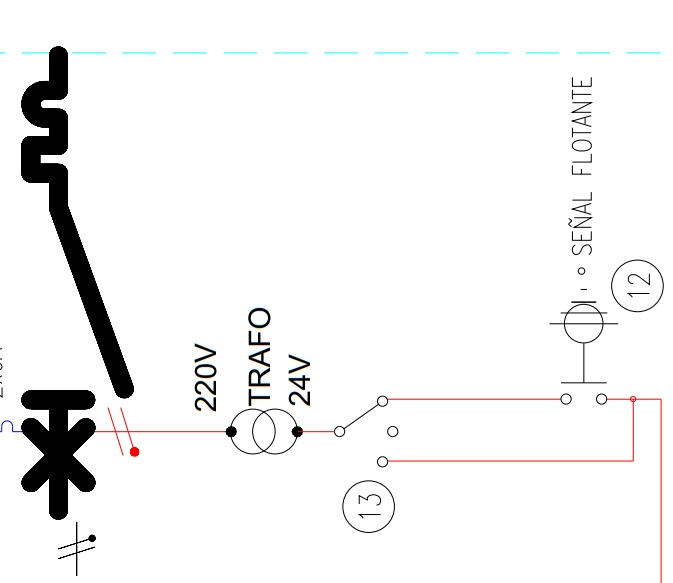interruptor_termomagnetico: (19, 44, 136, 522)
